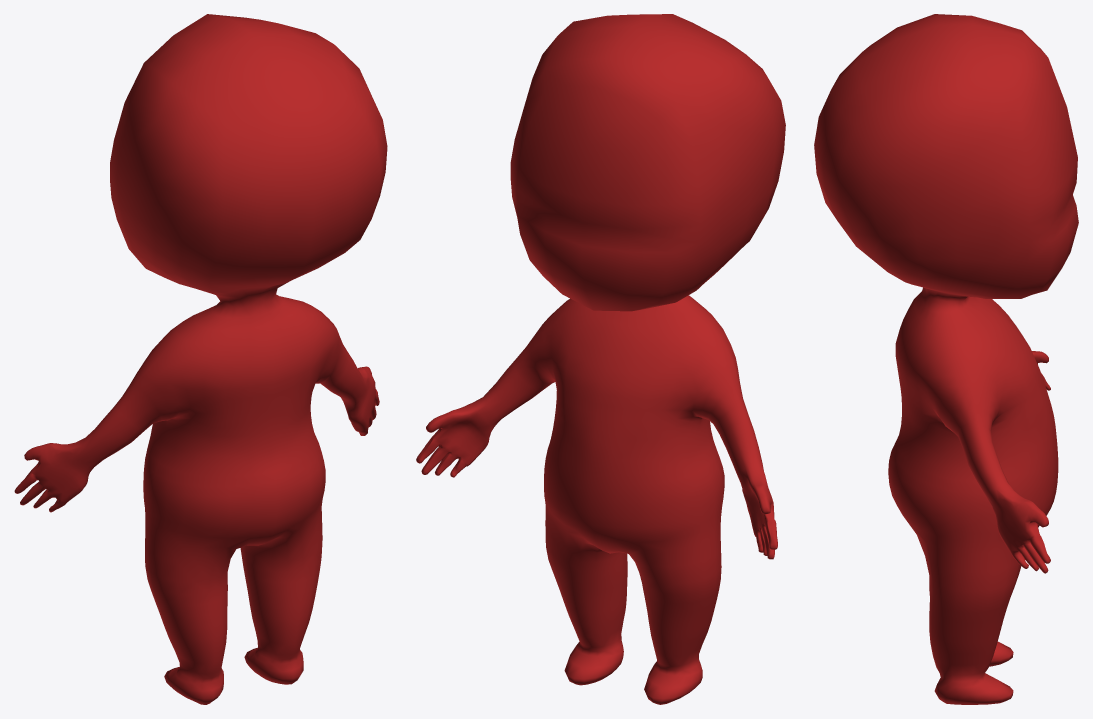
Rendered from Human_Full_00.DAE.
3 views of the same model, side by side, from view 1: azimuth 30°, elevation 25°; view 2: azimuth 150°, elevation 25°; view 3: azimuth 270°, elevation 25° (orthographic).
Parts seen in each view (by area): view 1: Cylinder001; view 2: Cylinder001; view 3: Cylinder001.
Part boxes in pixels (x1=…): Cylinder001: x1=14, y1=14, x2=387, y2=704; Cylinder001: x1=416, y1=14, x2=785, y2=704; Cylinder001: x1=814, y1=14, x2=1078, y2=704.
Bounding box in the file's own units: 27.39 × 47.59 × 17.38.
